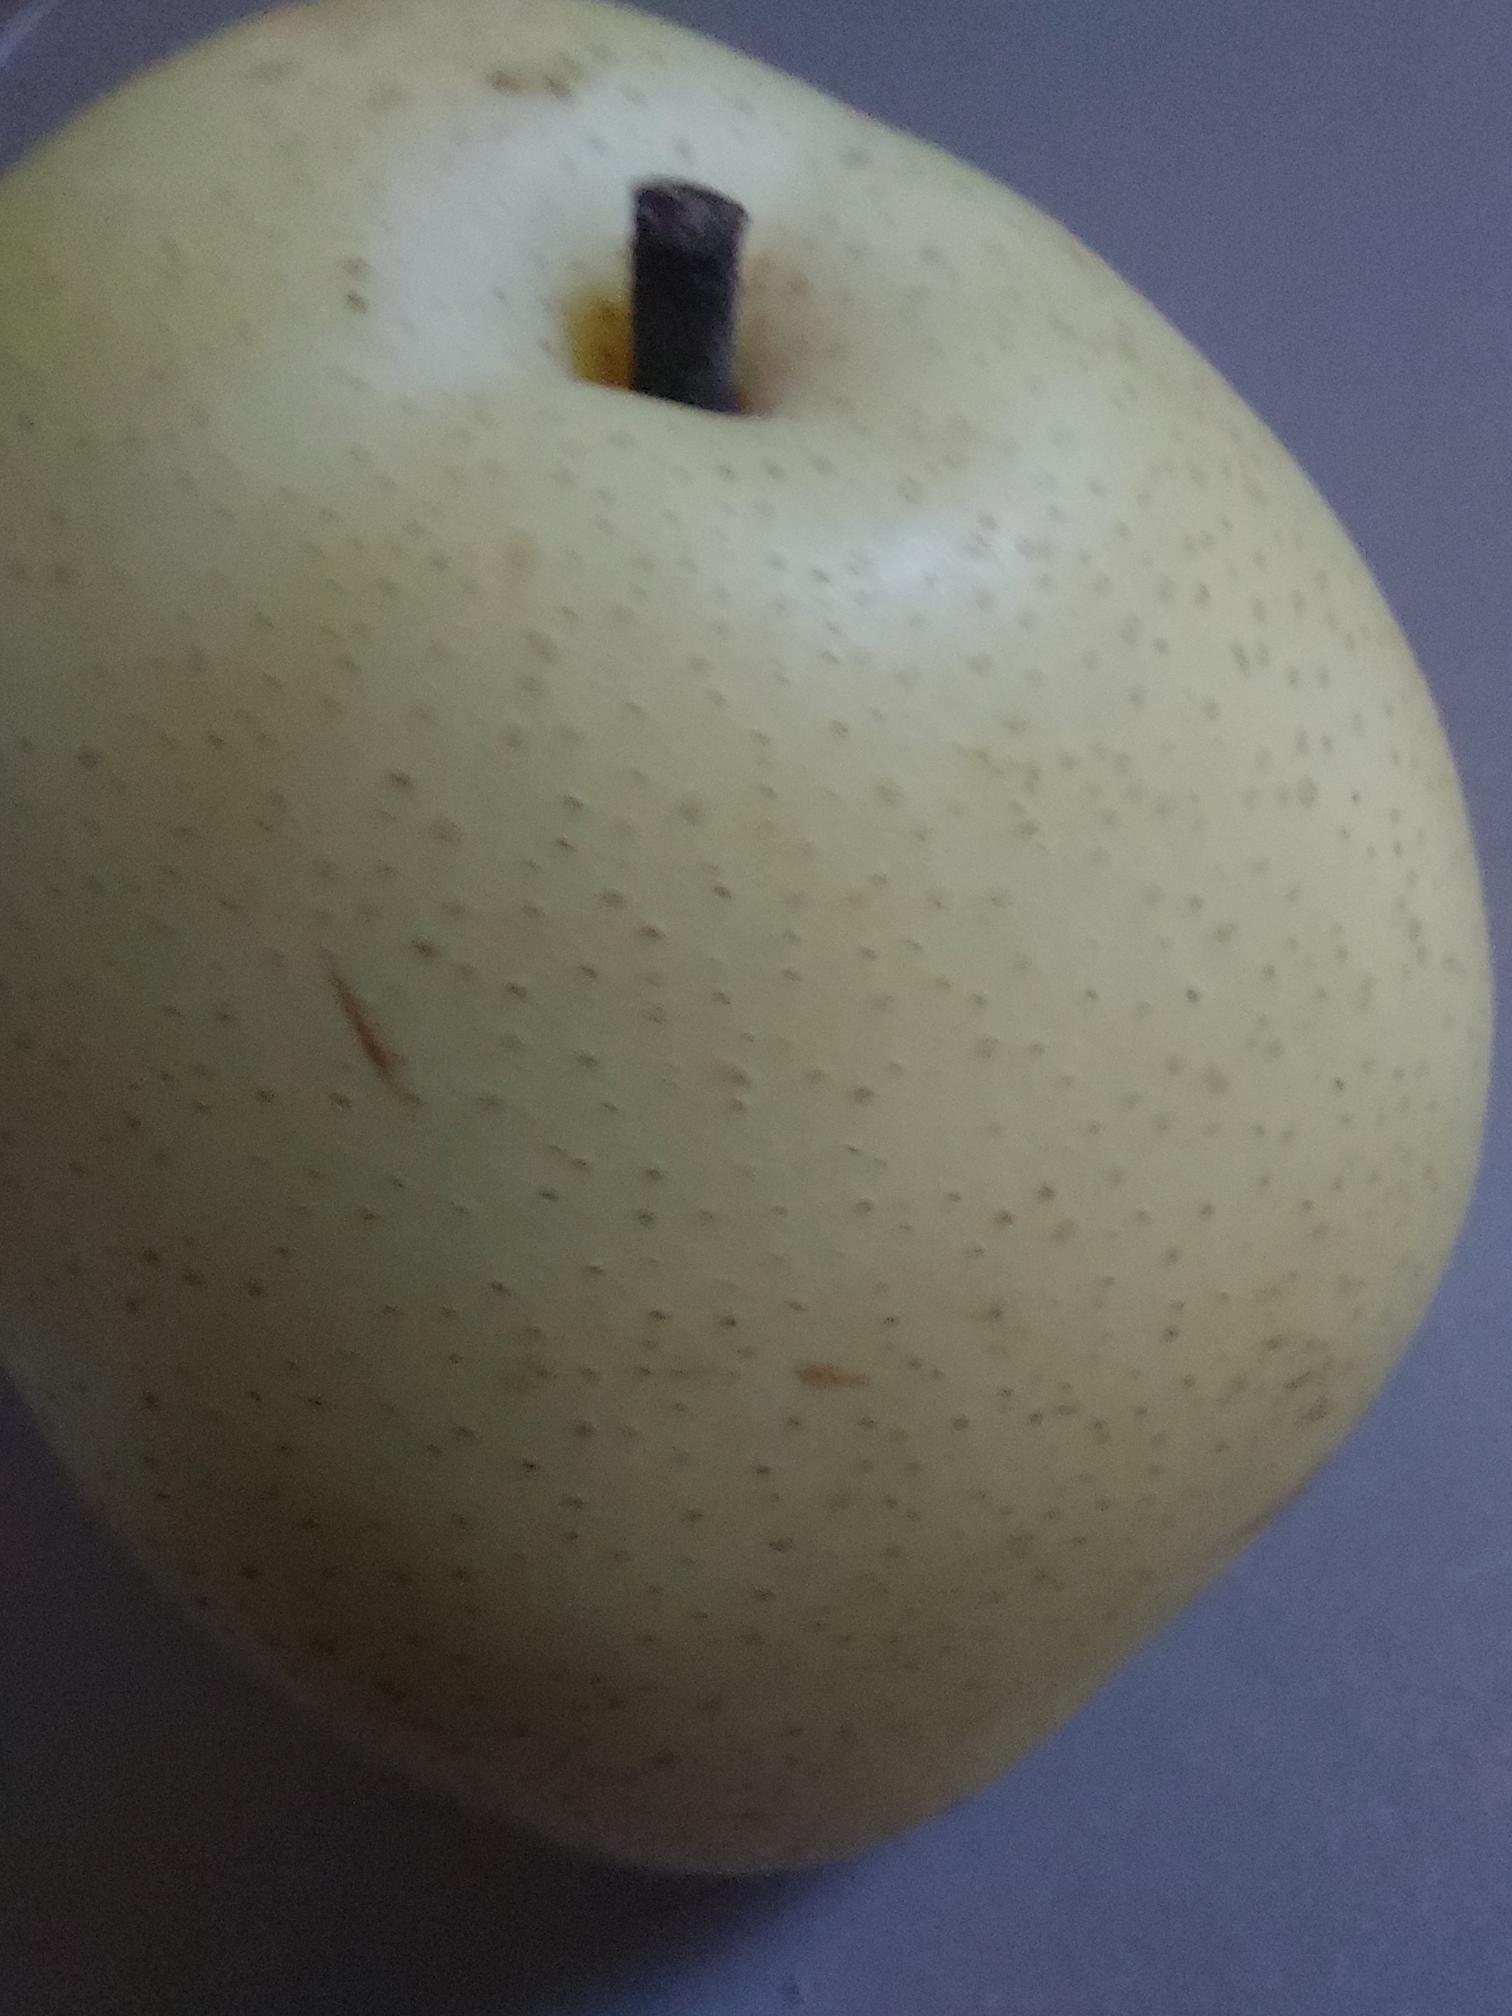Good Pear: (0, 0, 1512, 1965)
